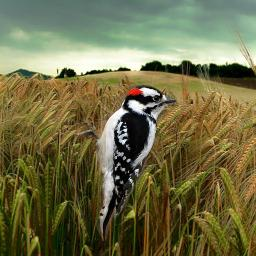Woodpecker: (73, 85, 177, 241)
